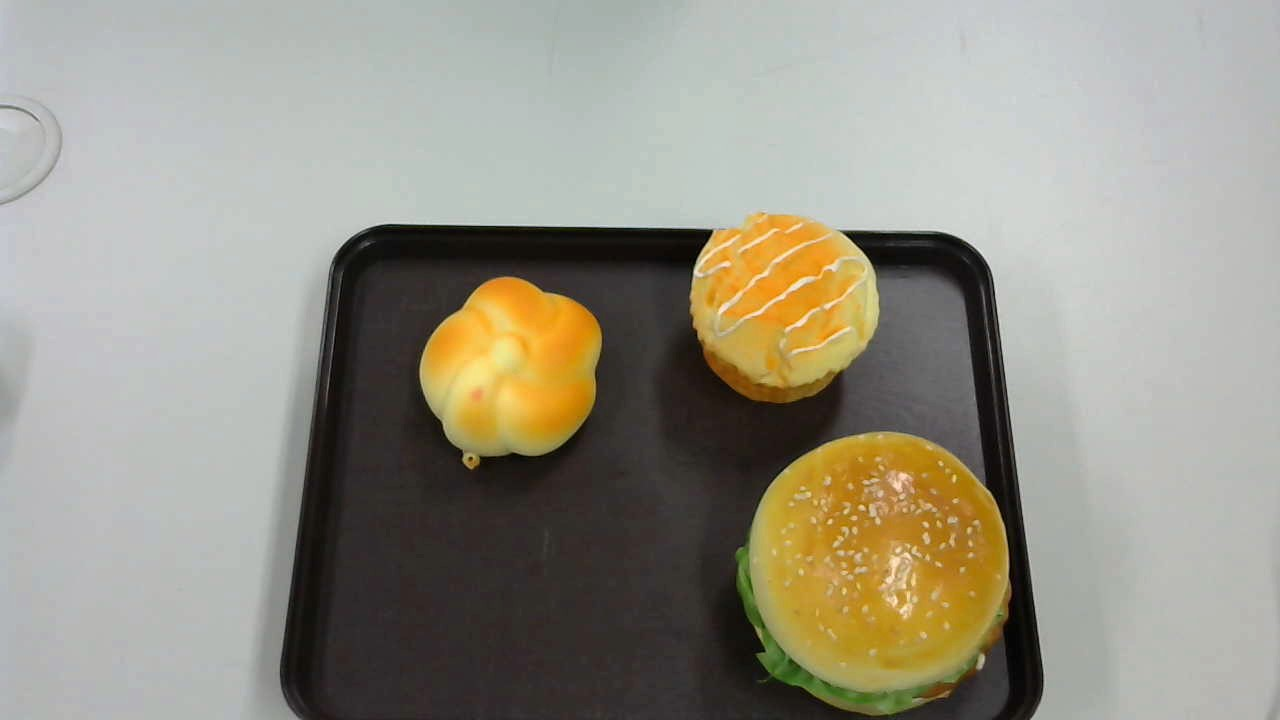cupcake: (688, 212, 878, 402)
hamburger: (735, 431, 1012, 714)
twist bread: (418, 277, 602, 469)
